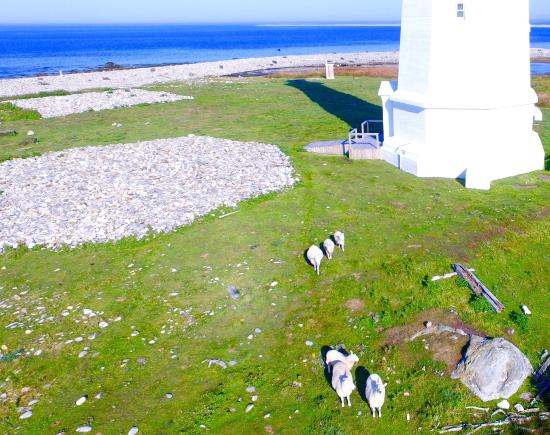sheep: (319, 361, 366, 403), (356, 375, 393, 416), (320, 343, 372, 367), (319, 237, 352, 268), (330, 227, 360, 250), (300, 252, 331, 271)
